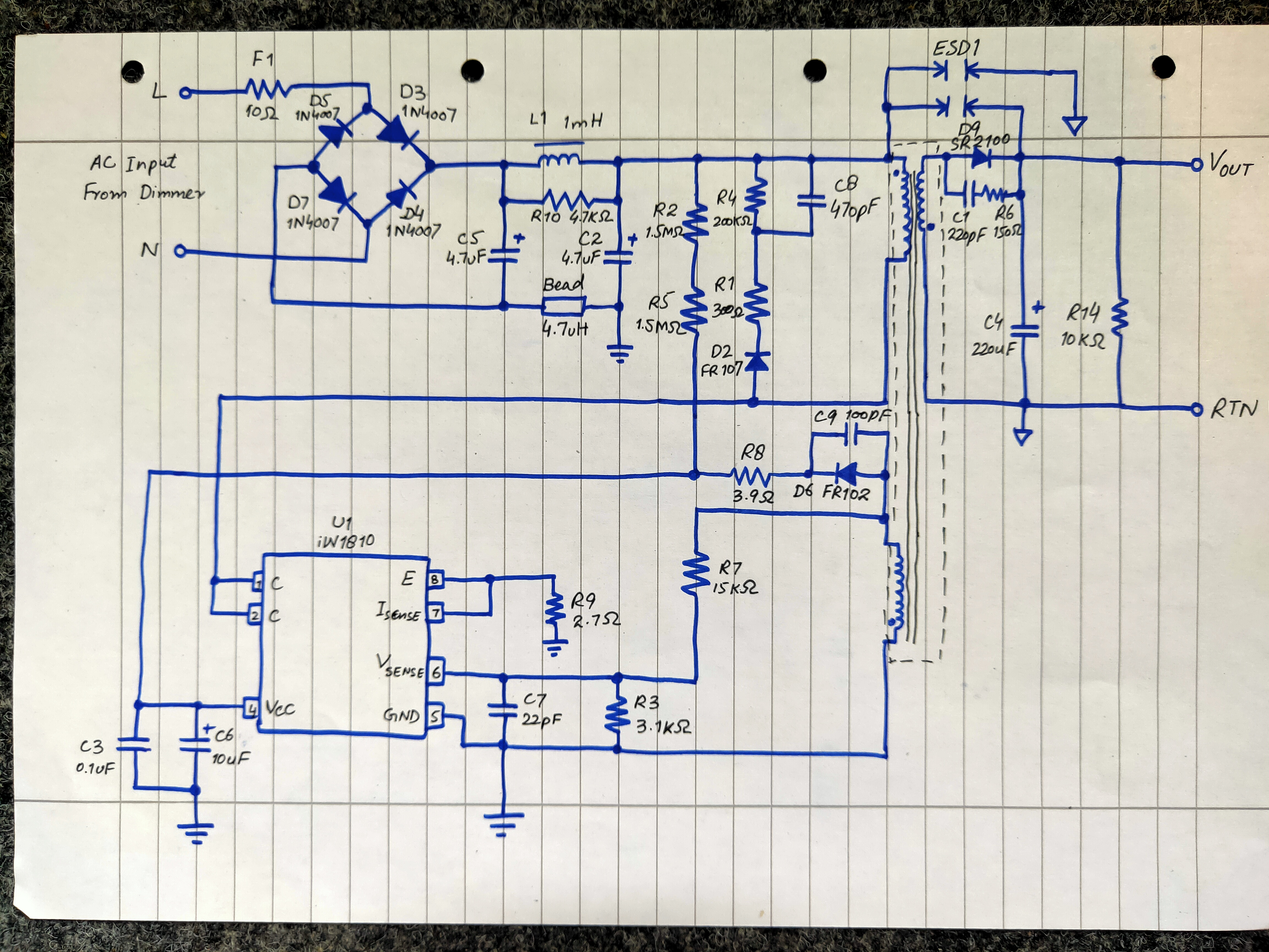capacitor.polarized: (1008, 299, 1046, 339), (487, 231, 527, 265), (602, 232, 638, 267), (177, 722, 216, 754)
capacitor.unpolarized: (113, 733, 154, 756), (486, 700, 520, 720), (794, 191, 827, 210), (961, 178, 977, 210), (842, 422, 860, 448)
crossover: (210, 467, 225, 483), (267, 249, 282, 265), (687, 395, 703, 410)
diode: (375, 115, 420, 153), (317, 175, 359, 213), (316, 117, 355, 150), (385, 177, 419, 213), (833, 460, 859, 488), (742, 350, 772, 374), (969, 146, 993, 170)
gnd: (480, 809, 528, 840), (174, 819, 217, 849), (602, 342, 636, 364), (1061, 114, 1089, 137), (541, 638, 570, 658), (1011, 425, 1035, 449)
inductor: (890, 554, 921, 631), (539, 294, 588, 320), (900, 168, 914, 256), (914, 168, 928, 234)
inductor.ferrite: (533, 139, 587, 171)
integrated_circuit: (241, 551, 448, 741)
junction: (304, 157, 323, 176), (611, 153, 628, 170), (423, 158, 439, 176), (186, 783, 203, 799), (611, 297, 627, 314), (268, 158, 284, 175), (749, 151, 765, 167), (495, 298, 511, 314), (495, 737, 511, 753), (131, 697, 146, 713), (496, 156, 511, 172), (360, 216, 375, 232), (878, 748, 893, 764), (690, 150, 705, 166), (360, 100, 376, 115), (496, 192, 511, 208), (689, 501, 704, 517), (482, 571, 497, 586), (880, 99, 895, 114), (142, 465, 157, 480), (687, 467, 702, 482), (1018, 397, 1032, 412), (1112, 154, 1127, 168), (207, 573, 221, 588), (213, 390, 227, 405), (1013, 150, 1028, 164), (610, 670, 624, 685), (746, 395, 761, 409), (496, 671, 510, 685), (191, 699, 205, 713), (129, 781, 143, 795), (805, 152, 819, 166), (362, 77, 376, 91), (611, 194, 625, 208), (878, 468, 891, 483), (359, 252, 372, 267), (878, 512, 891, 526), (267, 295, 280, 309), (1114, 399, 1127, 413), (1015, 101, 1028, 114), (206, 606, 219, 619), (547, 570, 560, 583), (802, 467, 815, 480), (805, 228, 817, 241), (1015, 188, 1026, 202), (1070, 67, 1082, 79), (882, 152, 893, 165), (612, 742, 623, 755), (750, 226, 763, 237), (920, 395, 931, 408), (882, 428, 893, 440), (484, 609, 496, 620), (458, 739, 470, 750), (884, 63, 895, 75), (941, 151, 952, 162), (808, 429, 818, 440), (690, 677, 701, 687), (459, 713, 468, 723), (880, 398, 890, 407), (942, 188, 951, 197), (900, 155, 909, 164), (883, 255, 891, 264), (881, 540, 890, 548), (891, 637, 899, 646), (920, 154, 928, 162), (901, 256, 909, 264), (881, 638, 888, 647), (894, 541, 902, 548)
resistor: (679, 549, 711, 596), (679, 283, 709, 333), (241, 75, 294, 102), (741, 279, 771, 326), (541, 188, 596, 213), (681, 201, 711, 244), (603, 695, 631, 735), (728, 465, 774, 488), (742, 175, 769, 214), (1108, 295, 1131, 340), (543, 590, 568, 628), (980, 183, 1009, 203)
terminal: (170, 241, 189, 261), (176, 83, 196, 102), (1188, 399, 1206, 418), (1189, 156, 1205, 174)
text: (83, 180, 206, 201), (89, 152, 178, 177), (1207, 148, 1255, 179), (829, 196, 882, 223), (376, 651, 426, 679), (401, 103, 458, 125), (949, 132, 1011, 152), (1210, 396, 1260, 420), (634, 716, 692, 736), (375, 599, 422, 622), (286, 213, 340, 233), (317, 532, 376, 550), (542, 317, 590, 339), (386, 222, 443, 240), (634, 316, 685, 336), (931, 37, 981, 57), (572, 610, 622, 629), (821, 483, 871, 502), (519, 709, 562, 731), (1060, 330, 1106, 350), (563, 110, 604, 132), (1066, 301, 1103, 325), (947, 226, 988, 247), (544, 274, 587, 293), (700, 360, 743, 379), (970, 340, 1018, 357), (712, 578, 760, 595), (75, 758, 117, 777), (445, 248, 487, 267), (844, 407, 893, 423), (295, 106, 341, 123), (560, 248, 601, 267), (643, 221, 684, 240), (383, 706, 421, 726), (568, 209, 615, 225), (732, 488, 775, 505), (243, 102, 279, 121), (211, 750, 252, 766), (264, 697, 295, 718), (711, 302, 745, 320), (647, 290, 676, 311), (521, 689, 550, 709), (833, 174, 861, 194), (399, 82, 427, 102), (739, 442, 766, 462), (712, 215, 753, 228), (993, 223, 1024, 240), (651, 201, 680, 219), (398, 204, 425, 223), (530, 208, 562, 224), (456, 229, 486, 246), (78, 738, 105, 756), (251, 49, 275, 69), (571, 591, 596, 610), (139, 238, 161, 259), (633, 693, 660, 710), (577, 230, 603, 247), (957, 120, 981, 138), (287, 193, 311, 211), (718, 559, 743, 576), (983, 312, 1004, 332), (716, 188, 737, 208), (814, 409, 838, 426), (994, 203, 1015, 222), (714, 275, 735, 294), (792, 482, 815, 499), (710, 343, 734, 359), (331, 515, 354, 531), (309, 93, 332, 109), (151, 81, 169, 101), (529, 110, 549, 127), (215, 727, 235, 743), (400, 569, 417, 587), (951, 211, 971, 224), (267, 608, 283, 624), (269, 575, 284, 592), (430, 709, 441, 724), (432, 665, 442, 680), (248, 703, 257, 716), (251, 610, 261, 621), (430, 574, 440, 585), (431, 607, 440, 618), (256, 579, 262, 589)
unknown: (932, 58, 981, 82), (935, 93, 979, 119)
